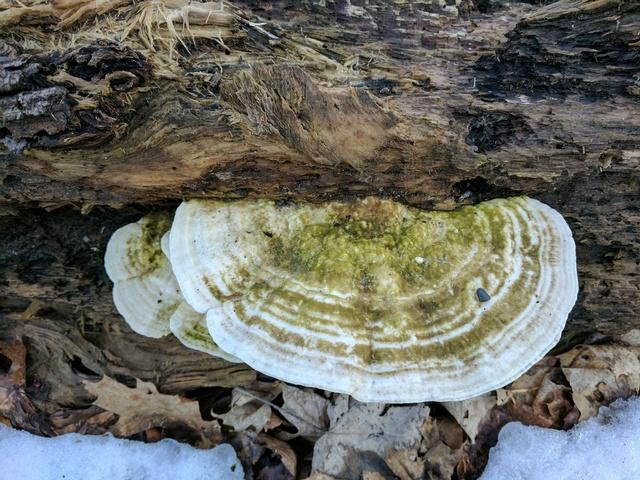Non-edible Mushroom: (103, 192, 580, 404)
